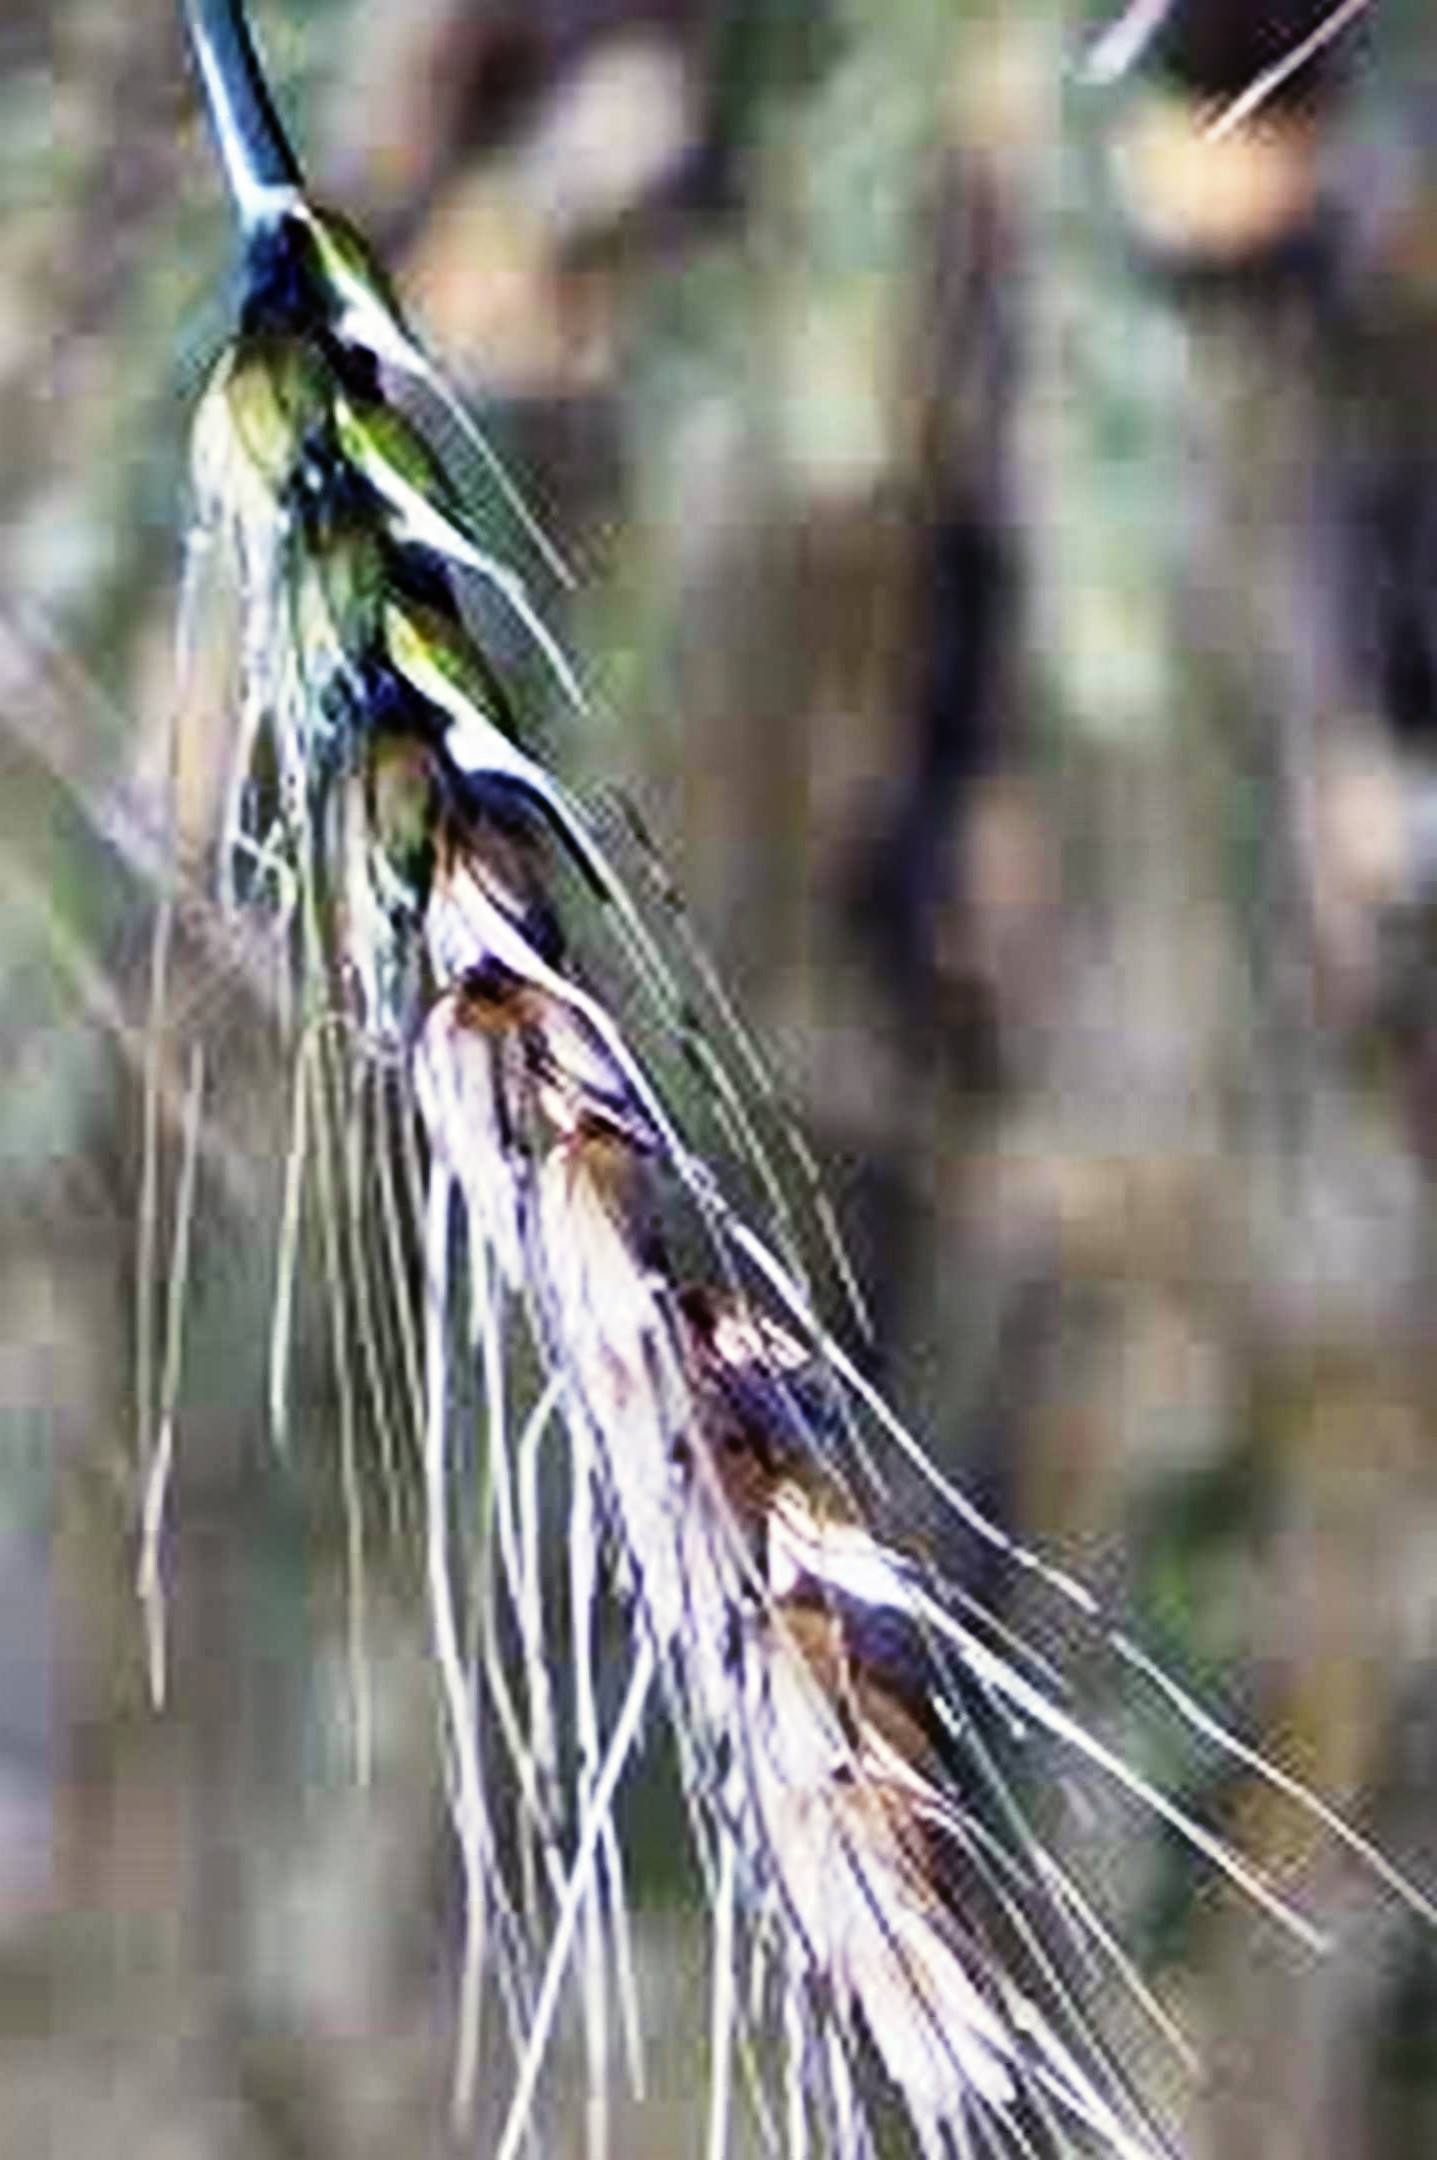Wheat scab: (156, 221, 1075, 2112)
